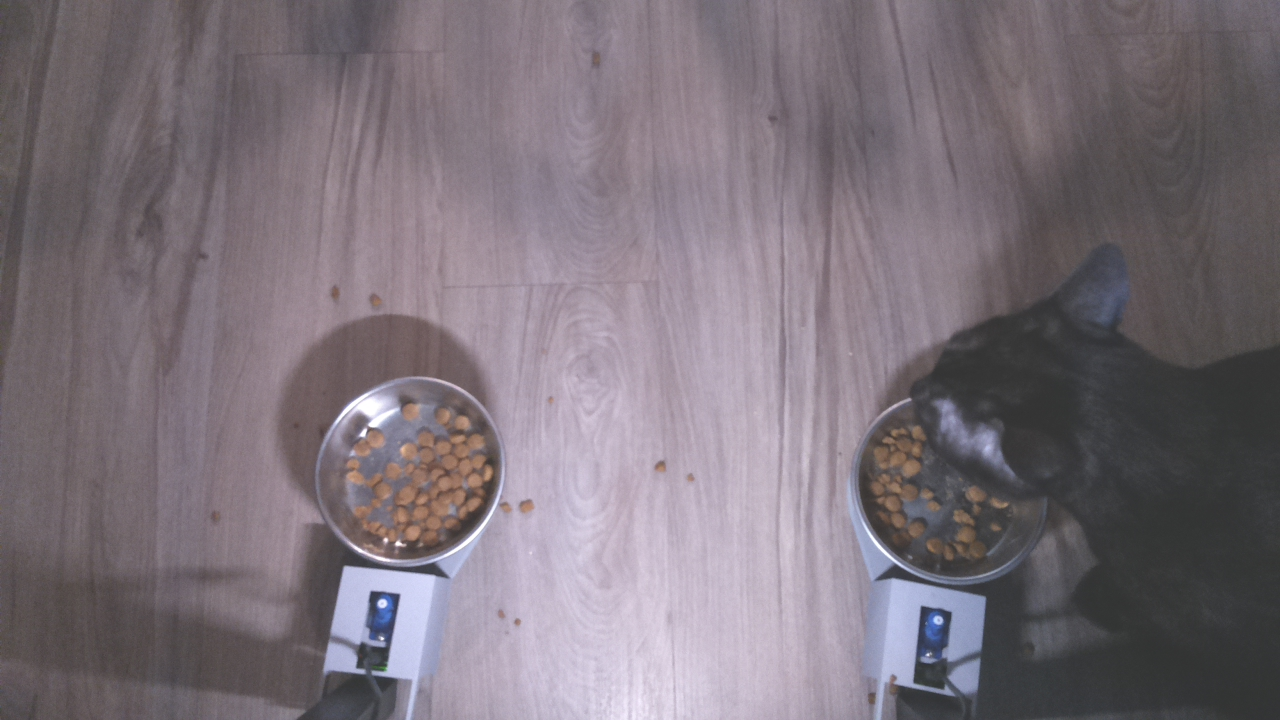open_bowl: (309, 372, 511, 576)
saki_eating: (844, 249, 1159, 597)
